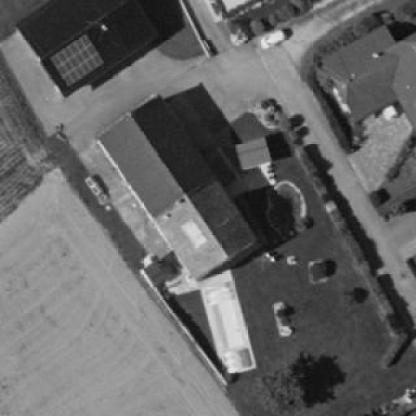solar-pv-panel: (50, 35, 104, 87), (180, 218, 207, 250)
